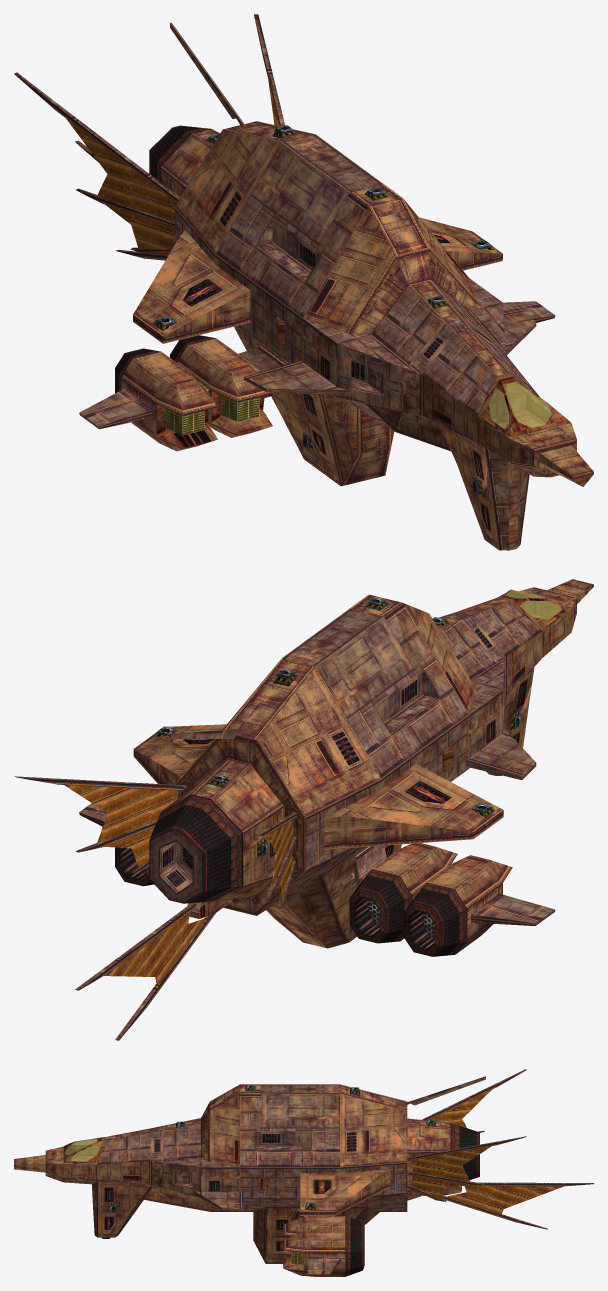
File: KDT-200 Macune.fbx
3 views of the same model, one above another, from view 1: azimuth 30°, elevation 25°; view 2: azimuth 150°, elevation 25°; view 3: azimuth 270°, elevation 25° (orthographic). The views are drawn at different scales.
Parts seen in each view (by area): view 1: Hull3, Hull1, Hull2, Sail.2, Hull4, Engine, Glass, Intake, Weaponplate; view 2: Hull3, Hull1, Hull2, Engine, Sail.2, Sail, Weaponplate, Hull4, Glass; view 3: Hull3, Hull1, Hull2, Sail.2, Engine, Sail, Hull4, Glass, Weaponplate.
Part boxes in pixels (x1=…): Hull3: x1=121, y1=121, x2=593, y2=550; Hull1: x1=14, y1=14, x2=555, y2=550; Hull2: x1=250, y1=134, x2=551, y2=428; Sail.2: x1=66, y1=80, x2=279, y2=248; Hull4: x1=156, y1=317, x2=570, y2=447; Engine: x1=115, y1=125, x2=215, y2=393; Glass: x1=489, y1=382, x2=551, y2=428; Intake: x1=166, y1=395, x2=259, y2=435; Weaponplate: x1=153, y1=125, x2=500, y2=550; Hull3: x1=133, y1=579, x2=593, y2=953; Hull1: x1=14, y1=601, x2=555, y2=1040; Hull2: x1=119, y1=594, x2=560, y2=950; Engine: x1=115, y1=794, x2=467, y2=956; Sail.2: x1=64, y1=785, x2=293, y2=902; Sail: x1=104, y1=912, x2=206, y2=985; Weaponplate: x1=154, y1=597, x2=521, y2=858; Hull4: x1=442, y1=589, x2=570, y2=772; Glass: x1=506, y1=590, x2=561, y2=619; Hull3: x1=14, y1=1084, x2=461, y2=1276; Hull1: x1=45, y1=1069, x2=593, y2=1275; Hull2: x1=65, y1=1084, x2=339, y2=1197; Sail.2: x1=412, y1=1090, x2=491, y2=1198; Engine: x1=345, y1=1123, x2=479, y2=1276; Sail: x1=445, y1=1186, x2=563, y2=1214; Hull4: x1=63, y1=1137, x2=304, y2=1270; Glass: x1=65, y1=1139, x2=100, y2=1161; Weaponplate: x1=102, y1=1085, x2=435, y2=1238.
Size of the model in its own units: 157 by 104 by 301.
11 materials, 10 textured.
